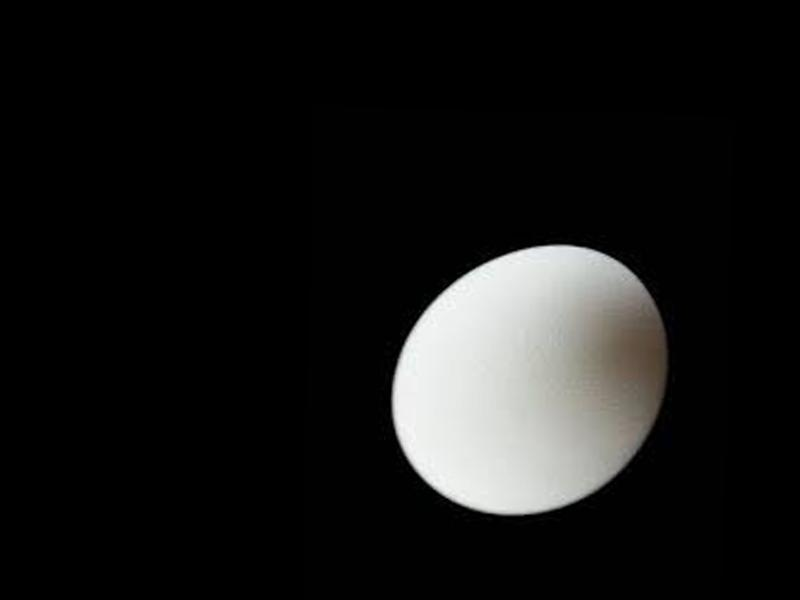Eggs: (389, 239, 666, 517)
